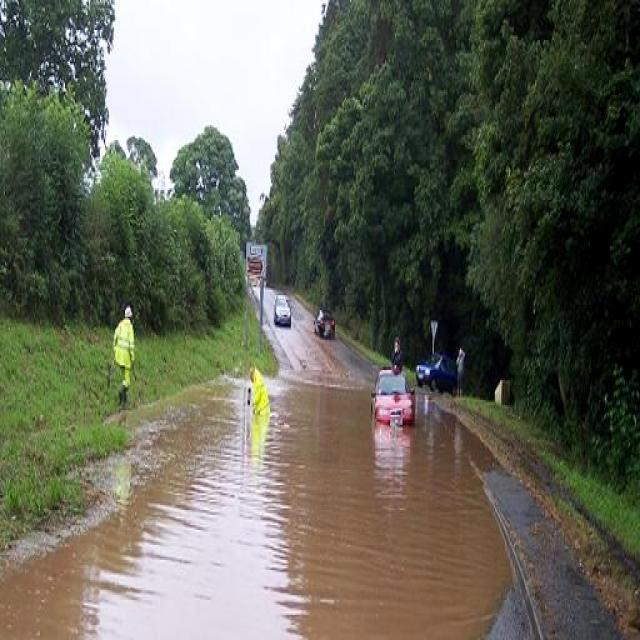rescuer: (99, 293, 158, 432), (233, 353, 290, 441)
